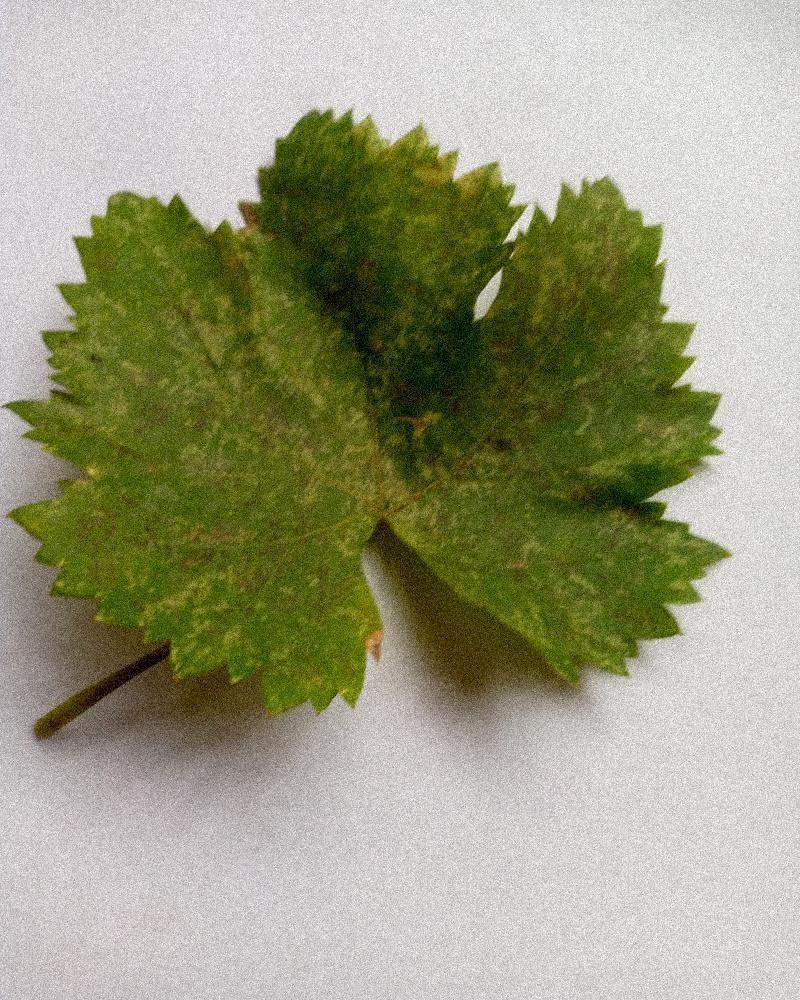Powdery-Mildew: (307, 412, 455, 553), (175, 268, 311, 383), (573, 389, 695, 484), (533, 204, 639, 313), (392, 151, 455, 214)
